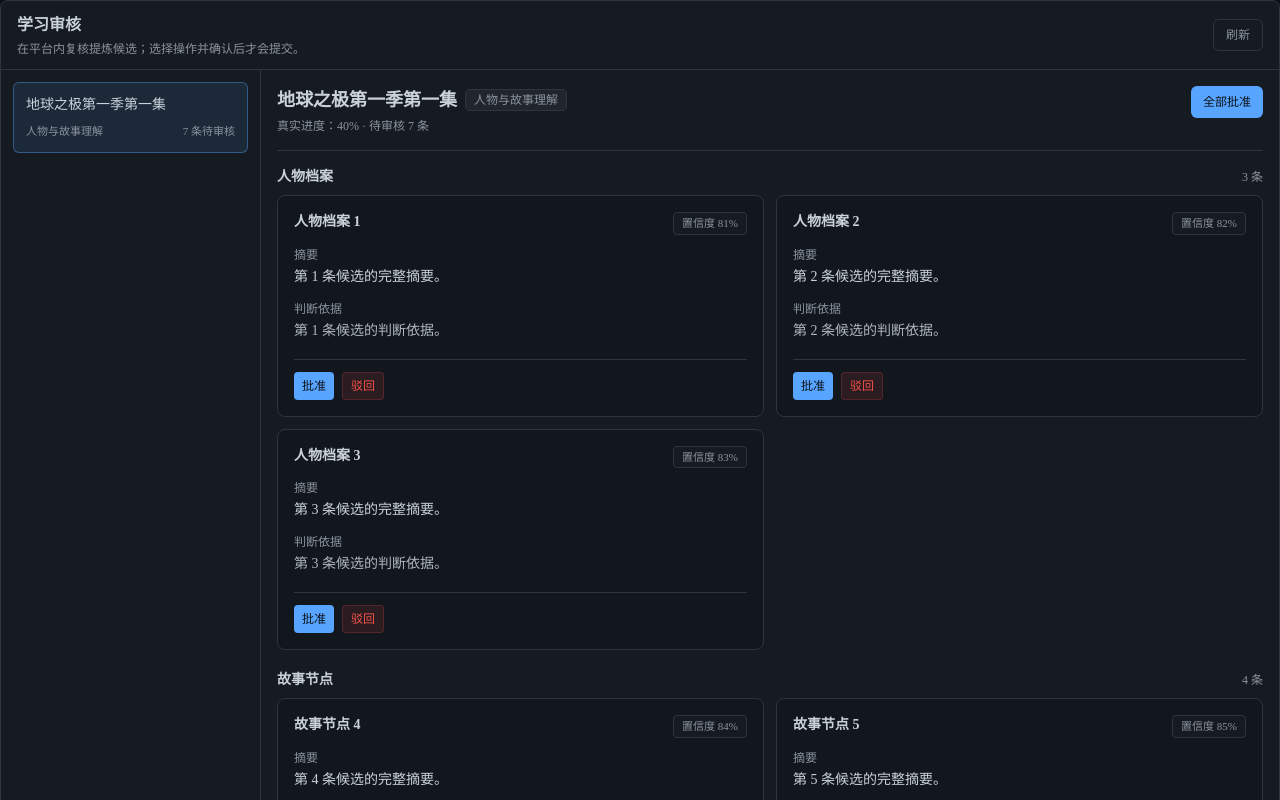
Test: DirectorLearningReviewPanel › confirms with the exact prepared identity and refreshes before unlocking
Click the button with aria-label "批准：人物档案 1": {"x": 314, "y": 386} [294, 372, 334, 400]
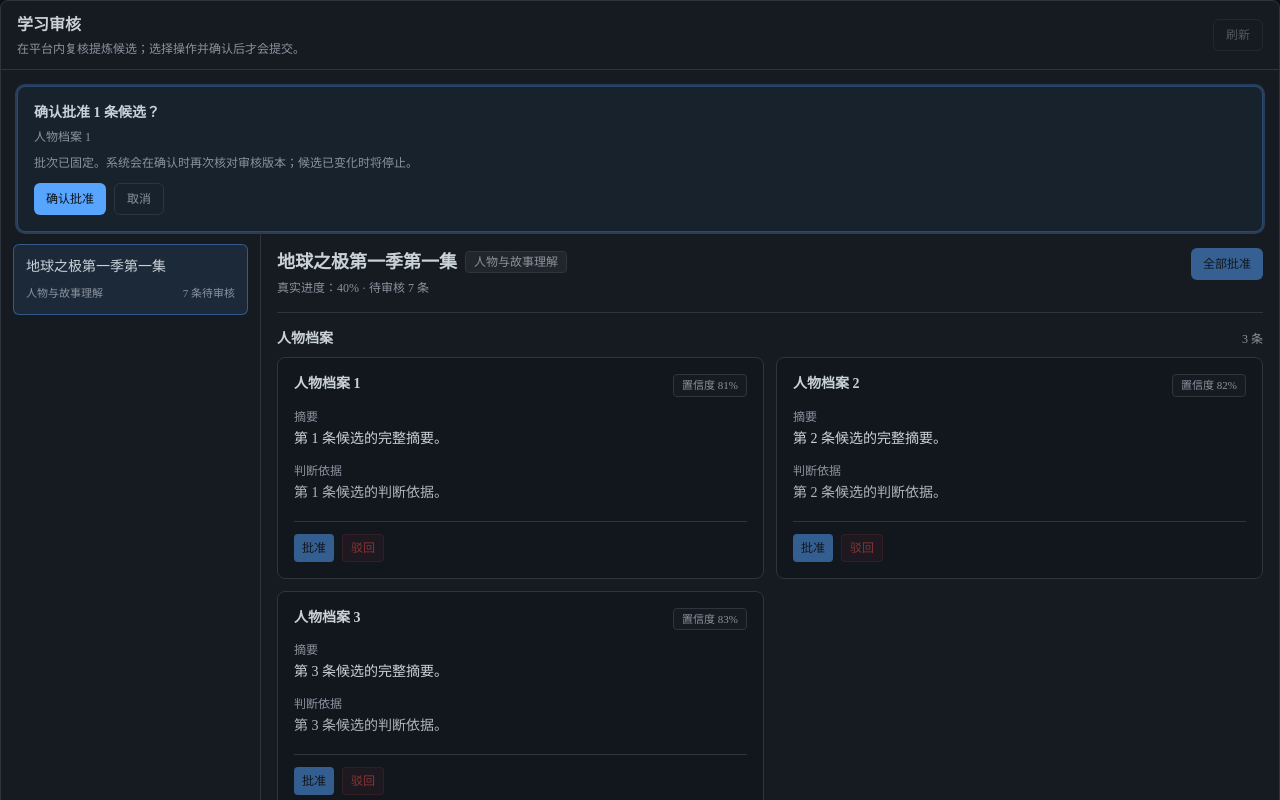
Click the button "确认批准": {"x": 70, "y": 199} [34, 183, 106, 215]
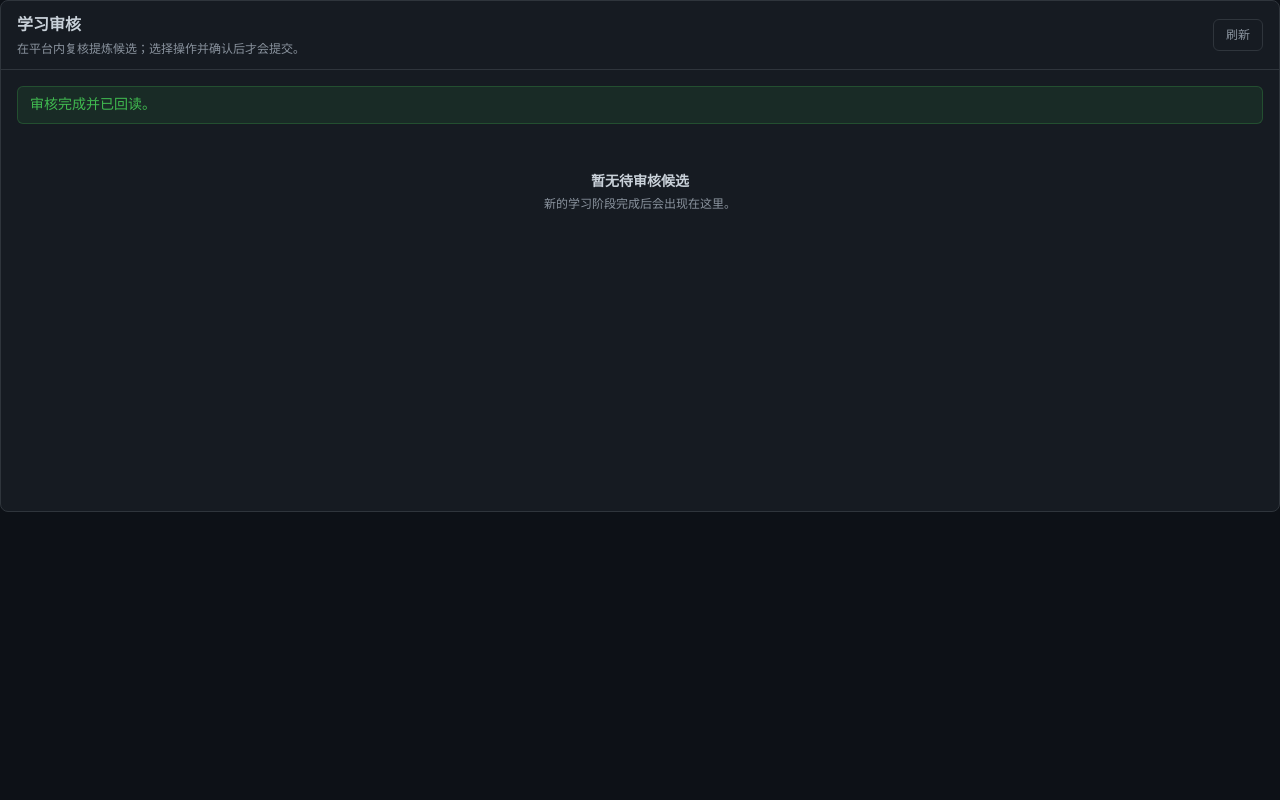
Now the text "审核完成并已回读。" is shown, box [17, 86, 1263, 124]
Now the heading "暂无待审核候选" is shown, box [591, 174, 689, 189]
